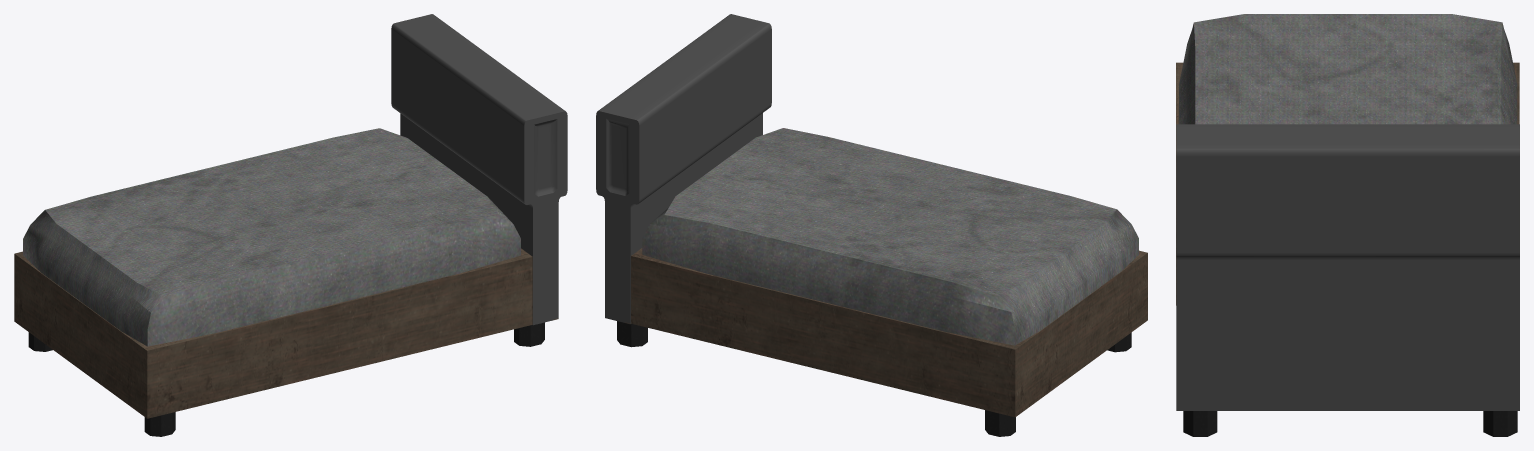
The model's file is Single Bed.fbx.
The picture shows the model from 3 angles, left to right: view 1: azimuth 30°, elevation 25°; view 2: azimuth 150°, elevation 25°; view 3: azimuth 270°, elevation 25°; orthographic projection. The views are drawn at different scales.
Parts seen in each view (by area): view 1: Bed3; view 2: Bed3; view 3: Bed3.
Part boxes in pixels (<box>): Bed3: <box>14,14,567,436</box>; Bed3: <box>596,14,1147,436</box>; Bed3: <box>1176,14,1519,436</box>.
Bounding box in the file's own units: 224 × 117 × 123.
